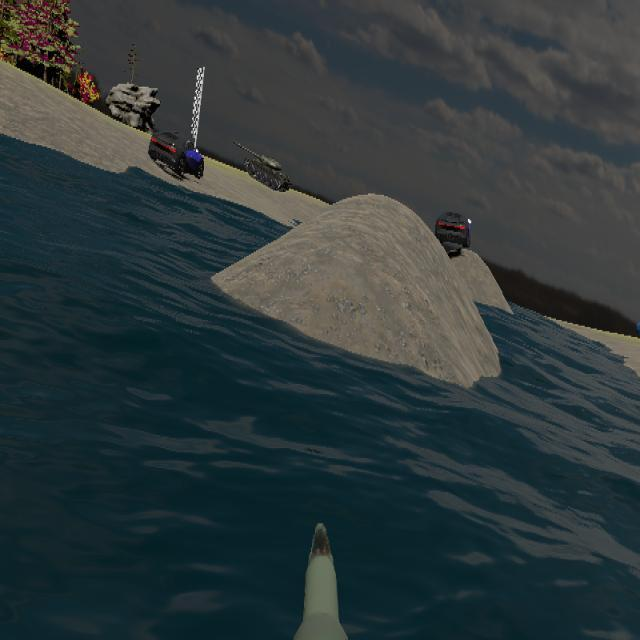Tank: (232, 140, 293, 193)
car: (149, 133, 204, 179), (435, 209, 472, 251), (148, 129, 179, 174)
